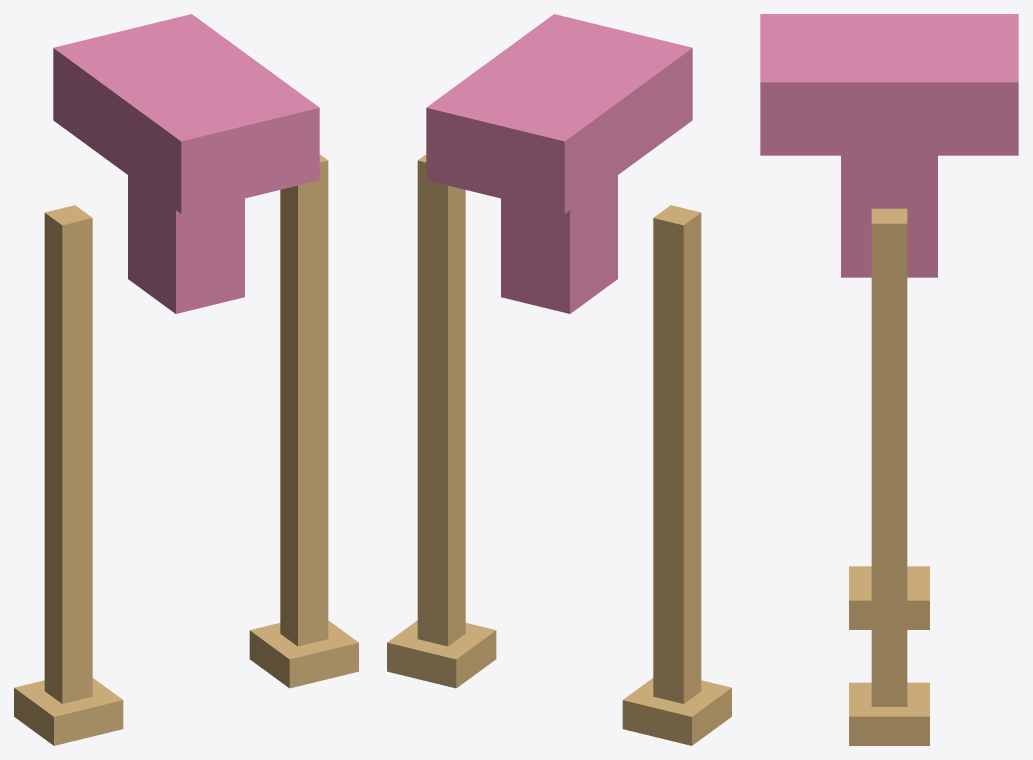
File: Bipod.obj
3 renders of one model, left to right at view 1: azimuth 30°, elevation 25°; view 2: azimuth 150°, elevation 25°; view 3: azimuth 270°, elevation 25°, orthographic.
Parts seen in each view (by area): view 1: Bipod_Detail, Bipod_Body; view 2: Bipod_Detail, Bipod_Body; view 3: Bipod_Body, Bipod_Detail.
Boxes of the visible parts, x1,y1,x2,y2 form: Bipod_Detail: (14, 154, 358, 745); Bipod_Body: (53, 14, 319, 313); Bipod_Detail: (387, 154, 731, 745); Bipod_Body: (426, 14, 692, 313); Bipod_Body: (760, 14, 1018, 277); Bipod_Detail: (849, 208, 929, 745).
Size of the model in its own units: 0.22 by 0.425 by 0.16.
